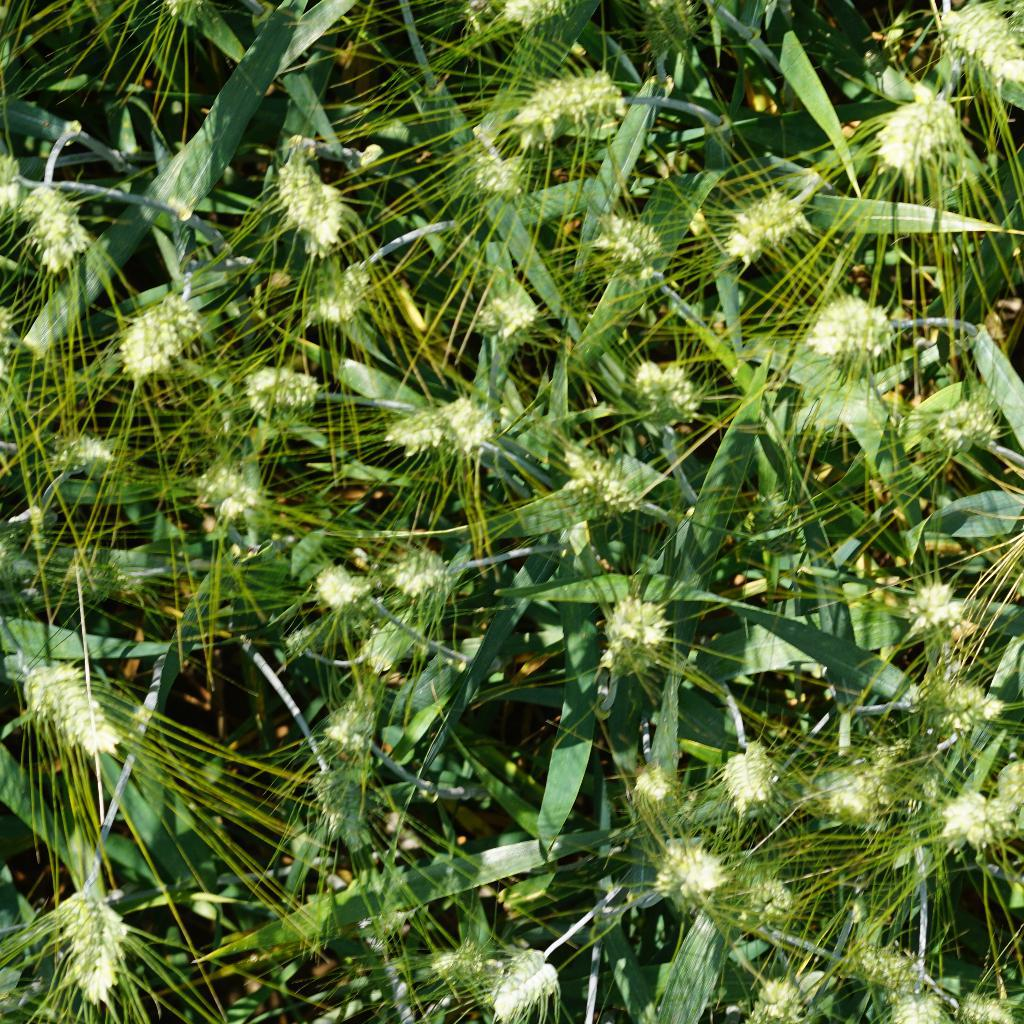0-0: (40, 875, 135, 1004), (19, 654, 127, 761), (496, 55, 631, 139), (118, 288, 209, 387), (268, 139, 346, 247), (793, 287, 892, 370), (535, 437, 638, 516), (17, 175, 103, 268), (859, 82, 952, 167), (940, 0, 1024, 92), (582, 590, 675, 673), (615, 342, 703, 428), (714, 183, 813, 258), (721, 848, 813, 925), (742, 475, 814, 568), (706, 740, 788, 819), (301, 251, 380, 332), (920, 387, 1002, 462), (429, 382, 508, 458), (470, 271, 545, 351), (191, 456, 268, 531), (493, 938, 564, 1019), (587, 204, 661, 281), (893, 572, 971, 645), (649, 834, 735, 900), (916, 777, 1006, 838), (309, 763, 385, 832), (628, 0, 712, 62), (914, 671, 1002, 728), (806, 752, 882, 817), (49, 553, 138, 605), (843, 930, 911, 997), (377, 395, 449, 458), (623, 752, 692, 817), (388, 544, 452, 613), (43, 418, 120, 475), (242, 354, 313, 413), (426, 922, 488, 989), (314, 691, 382, 750), (724, 974, 802, 1024), (305, 560, 373, 615), (478, 152, 542, 208), (873, 976, 944, 1024), (957, 991, 1023, 1024), (274, 622, 323, 665), (367, 907, 412, 939)
